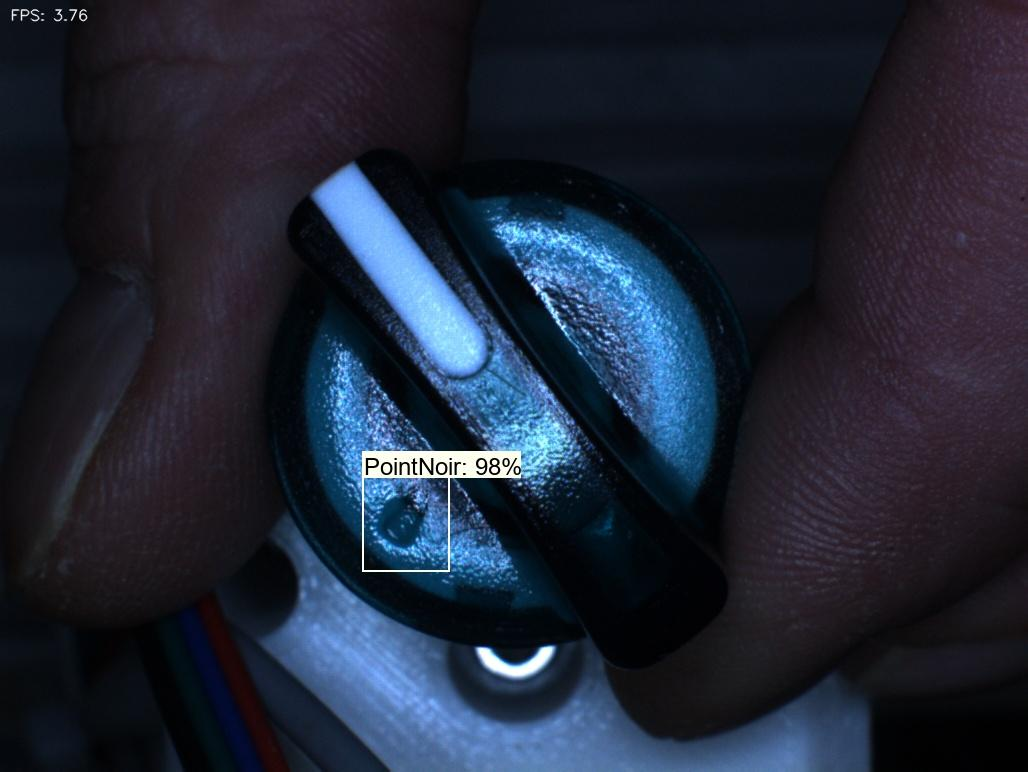Choc: (352, 479, 436, 568)
